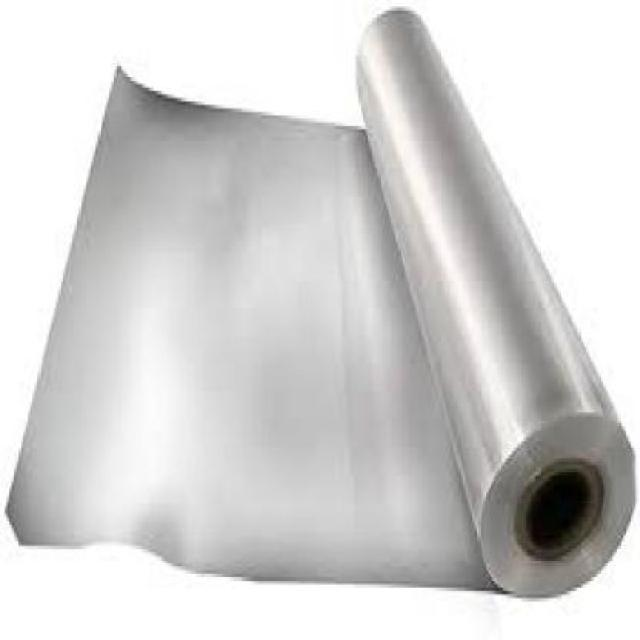METAL: (2, 7, 633, 591)
